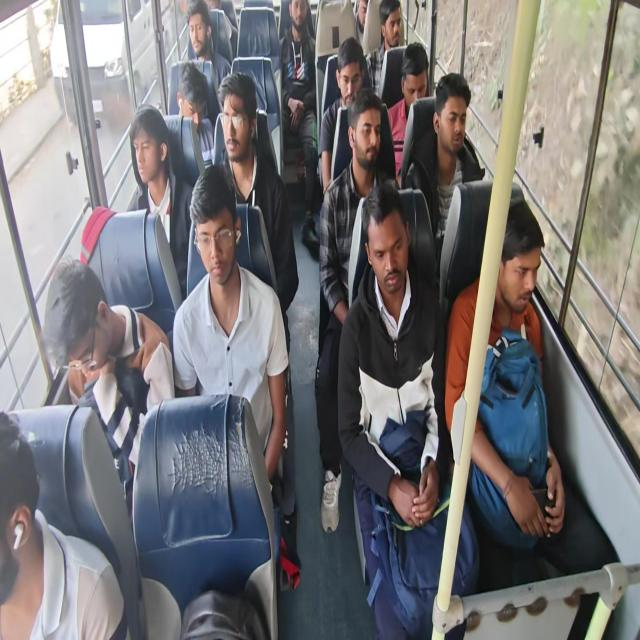person: (52, 286, 110, 376), (214, 86, 260, 158), (428, 80, 469, 155), (194, 208, 234, 282), (503, 239, 538, 318), (371, 232, 408, 298), (129, 115, 163, 186), (174, 62, 210, 126), (347, 106, 383, 168), (282, 0, 308, 44), (184, 7, 208, 54), (382, 1, 405, 44), (351, 0, 370, 30)
